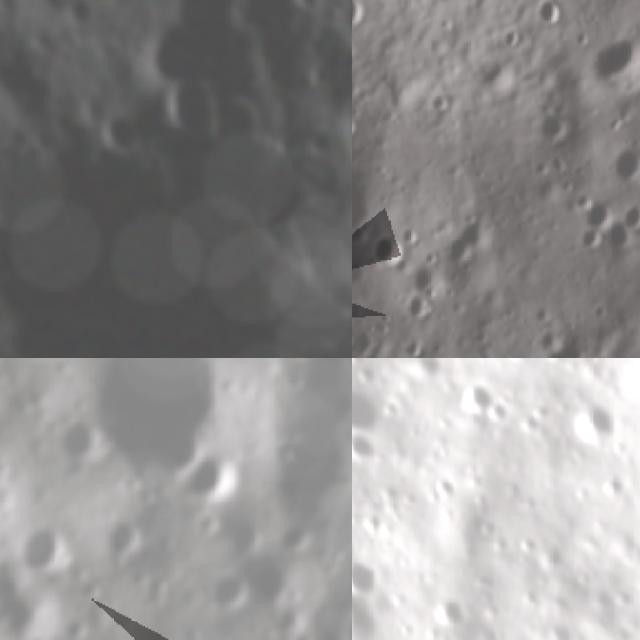crater: (0, 141, 352, 358), (98, 358, 267, 480), (152, 62, 215, 142), (84, 100, 156, 164), (352, 142, 388, 268), (8, 517, 74, 577), (175, 449, 238, 509), (42, 407, 107, 464), (441, 208, 490, 275), (585, 32, 640, 91), (569, 395, 629, 442), (100, 508, 154, 560), (352, 544, 391, 603), (352, 376, 386, 439), (453, 376, 508, 414), (370, 226, 407, 274), (581, 192, 614, 232), (539, 335, 595, 358), (615, 139, 640, 186), (402, 293, 432, 325), (535, 0, 569, 26), (622, 195, 640, 231), (402, 335, 428, 358), (352, 0, 370, 29)
